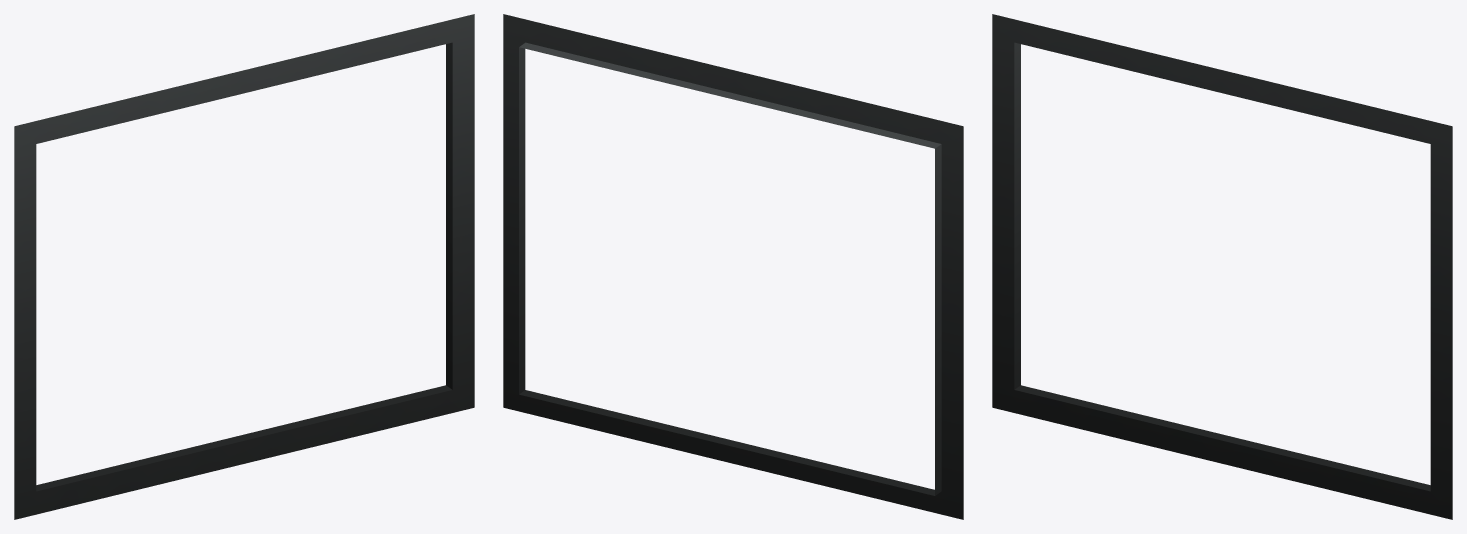
File: Wall_3m_A_Window_B_Frame_A.fbx
The picture shows the model from 3 angles, left to right: view 1: azimuth 30°, elevation 25°; view 2: azimuth 150°, elevation 25°; view 3: azimuth 330°, elevation 25°; orthographic projection.
Parts seen in each view (by area): view 1: Wall_3m_A_Window_B_Frame_A; view 2: Wall_3m_A_Window_B_Frame_A; view 3: Wall_3m_A_Window_B_Frame_A.
Boxes of the visible parts, x1,y1,x2,y2 form: Wall_3m_A_Window_B_Frame_A: [14, 14, 474, 519]; Wall_3m_A_Window_B_Frame_A: [503, 14, 963, 519]; Wall_3m_A_Window_B_Frame_A: [992, 14, 1452, 519].
Size of the model in its own units: 208 by 170 by 5.
